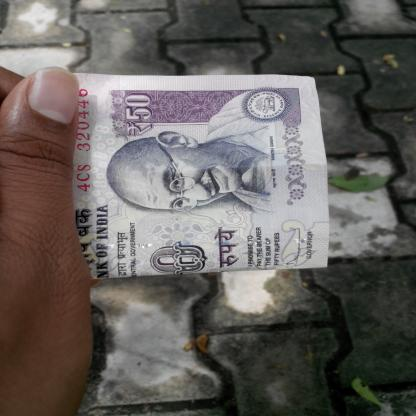Old50Front: (23, 74, 332, 280)
